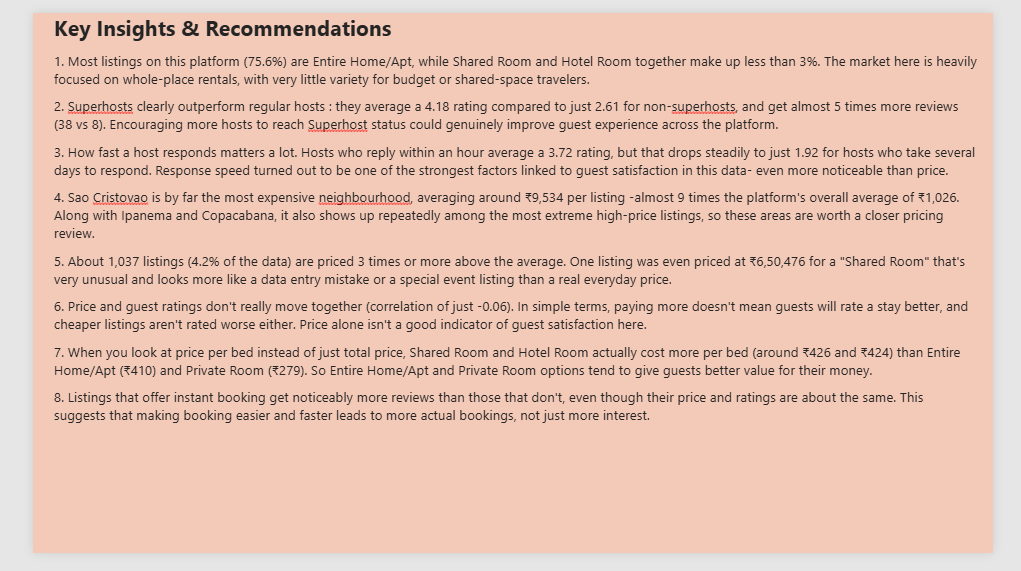

This screenshot's page, from the dashboard's own definition file:
{"tool":"powerbi","page":{"name":"Key Findings & Recommendations","canvas":[1920,1080],"ordinal":1},"visuals":[{"type":"textbox","box":[0,0,1890,1080],"z":0}]}

Visuals, with their boxes in screenshot pixels (x1, y1, x2, y2), scaled from the page's 1920x1080 canvas onto the 1021x571 screenshot:
textbox: <bbox>0, 0, 1005, 570</bbox>
